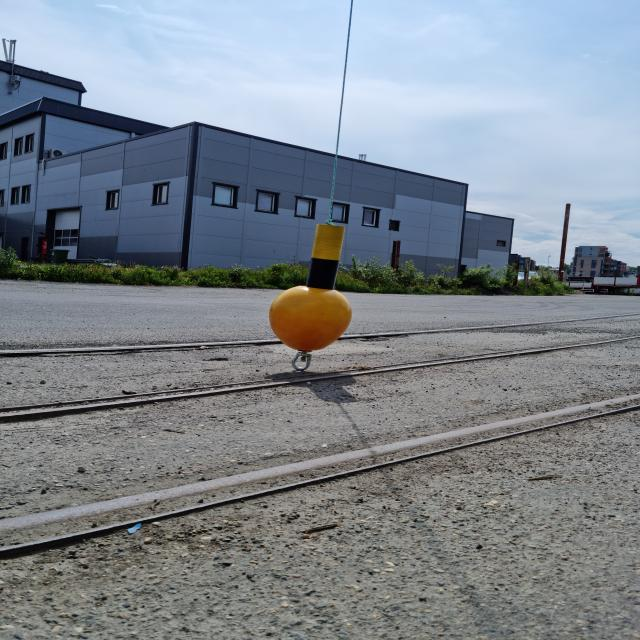west: (270, 223, 354, 352)
